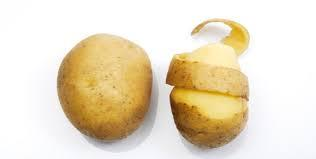Organic: (41, 15, 310, 158)
